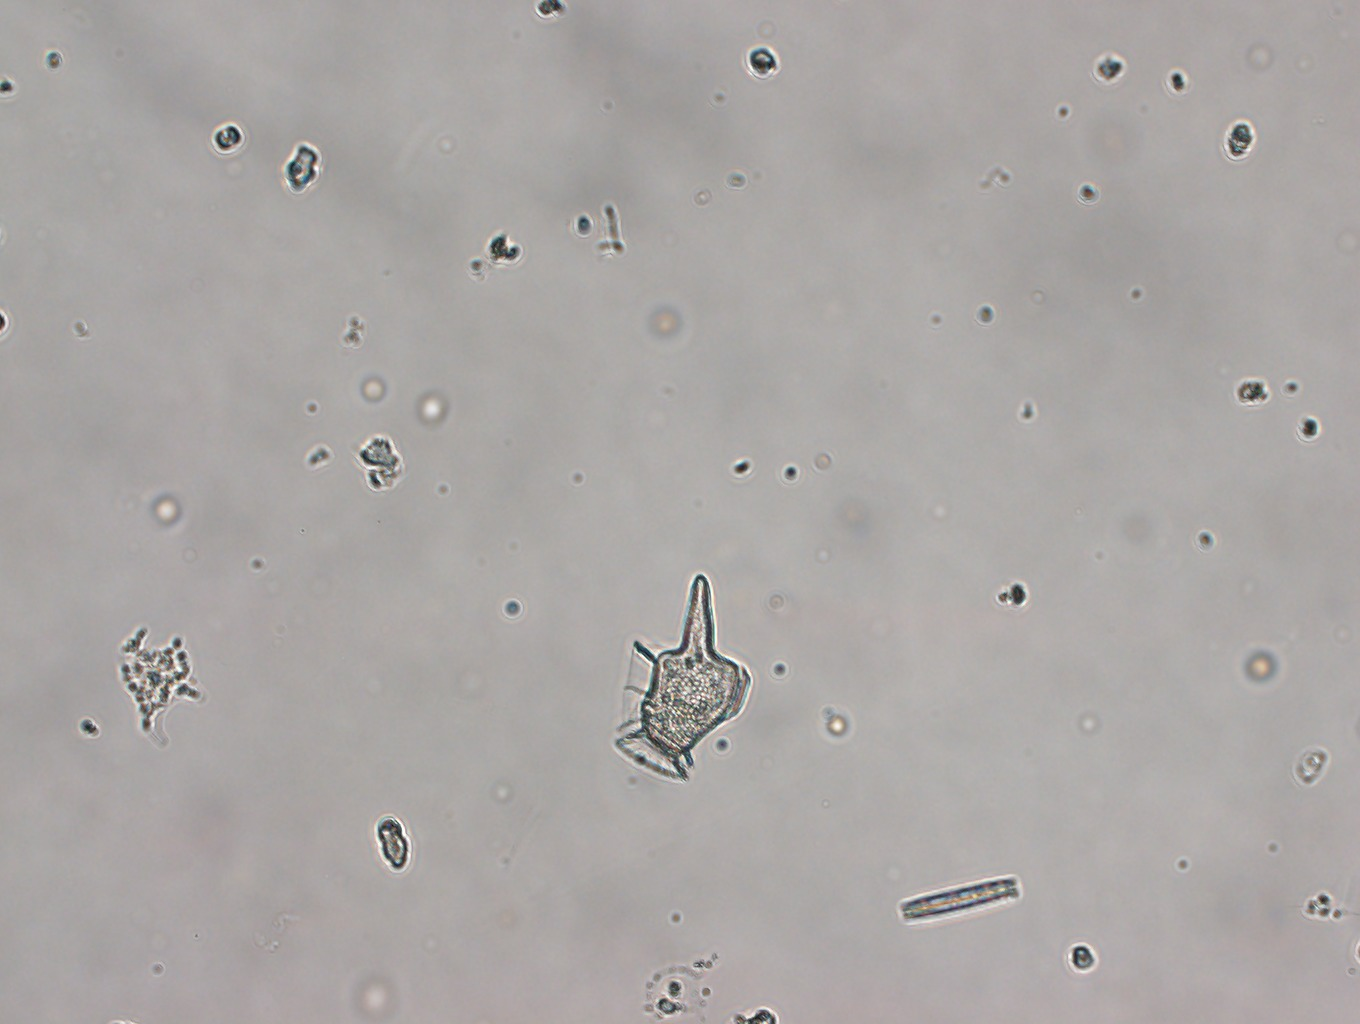dinophysis caudata: (600, 559, 755, 786)
